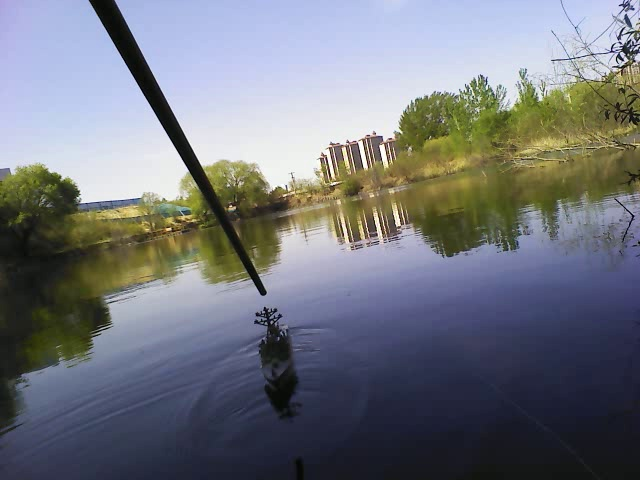warship: (253, 303, 304, 403)
